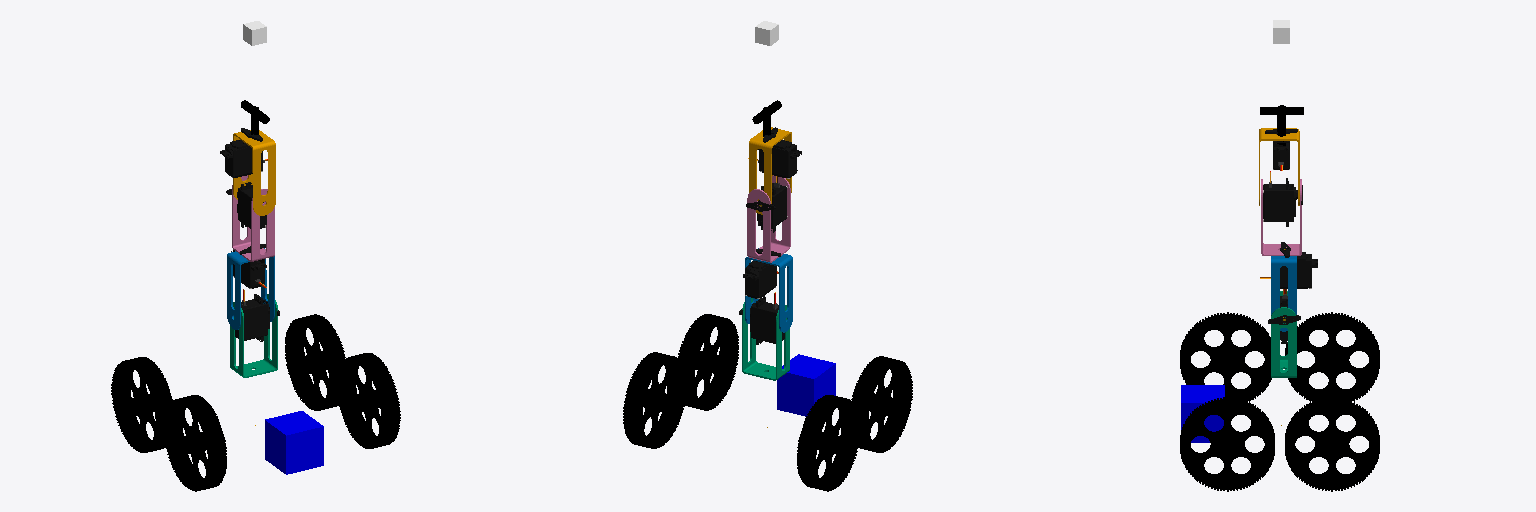
--- What the picture shows (computed from the rendered views, not written in the file) ---
The picture shows the robot from 3 angles, left to right: view 1: azimuth 30°, elevation 25°; view 2: azimuth 150°, elevation 25°; view 3: azimuth 270°, elevation 25°; orthographic projection.
Robot: Robot_Arm — 26 links, 25 joints (8 revolute, 4 continuous, 13 fixed); root link base_foot; default pose: all joints at 0 but 2 set to mid-range because 0 is outside their limits (left_gripper_joint = 0.349, right_gripper_joint = 0.349).
Visible links, largest first — view 1: right_back_wheel1, left_back_wheel1, left_front_wheel1, right_front_wheel1, hokuyo_sensor, elbow_pitch_link, elbow_pan_link, shoulder_roll_link, shoulder_pan_link, servo_shoulder_roll, servo_gripper_pan, servo_elbow_pan (+1 smaller); view 2: right_front_wheel1, left_front_wheel1, right_back_wheel1, left_back_wheel1, hokuyo_sensor, elbow_pan_link, shoulder_pan_link, shoulder_roll_link, elbow_pitch_link, servo_shoulder_roll, servo_gripper_pan, servo_elbow_pan (+1 smaller); view 3: right_front_wheel1, right_back_wheel1, left_front_wheel1, left_back_wheel1, shoulder_pan_link, hokuyo_sensor, servo_wrist_roll, shoulder_roll_link, servo_elbow_pan, elbow_pan_link, servo_gripper_pan, elbow_pitch_link.
Link boxes in pixels (x1=…): right_back_wheel1: x1=337, y1=353, x2=400, y2=448; left_back_wheel1: x1=164, y1=395, x2=226, y2=491; left_front_wheel1: x1=111, y1=357, x2=172, y2=452; right_front_wheel1: x1=285, y1=314, x2=345, y2=410; hokuyo_sensor: x1=265, y1=411, x2=323, y2=474; elbow_pitch_link: x1=233, y1=130, x2=275, y2=215; elbow_pan_link: x1=232, y1=175, x2=274, y2=261; shoulder_roll_link: x1=227, y1=248, x2=274, y2=329; shoulder_pan_link: x1=230, y1=294, x2=277, y2=377; servo_shoulder_roll: x1=235, y1=289, x2=279, y2=341; servo_gripper_pan: x1=220, y1=128, x2=267, y2=177; servo_elbow_pan: x1=231, y1=244, x2=266, y2=288; right_front_wheel1: x1=623, y1=352, x2=686, y2=448; left_front_wheel1: x1=797, y1=395, x2=860, y2=491; right_back_wheel1: x1=678, y1=314, x2=738, y2=410; left_back_wheel1: x1=851, y1=356, x2=912, y2=452; hokuyo_sensor: x1=777, y1=354, x2=835, y2=416; elbow_pan_link: x1=747, y1=175, x2=790, y2=262; shoulder_pan_link: x1=742, y1=298, x2=789, y2=380; shoulder_roll_link: x1=745, y1=248, x2=792, y2=332; elbow_pitch_link: x1=749, y1=127, x2=791, y2=214; servo_shoulder_roll: x1=739, y1=292, x2=784, y2=344; servo_gripper_pan: x1=748, y1=127, x2=801, y2=178; servo_elbow_pan: x1=743, y1=249, x2=780, y2=298; right_front_wheel1: x1=1285, y1=397, x2=1379, y2=491; right_back_wheel1: x1=1180, y1=397, x2=1274, y2=491; left_front_wheel1: x1=1285, y1=312, x2=1379, y2=401; left_back_wheel1: x1=1180, y1=312, x2=1271, y2=401; shoulder_pan_link: x1=1271, y1=291, x2=1296, y2=377; hokuyo_sensor: x1=1181, y1=385, x2=1224, y2=442; servo_wrist_roll: x1=1263, y1=171, x2=1302, y2=226; shoulder_roll_link: x1=1271, y1=256, x2=1296, y2=331; servo_elbow_pan: x1=1260, y1=242, x2=1317, y2=288; elbow_pan_link: x1=1261, y1=179, x2=1301, y2=255; servo_gripper_pan: x1=1265, y1=129, x2=1297, y2=170; elbow_pitch_link: x1=1259, y1=128, x2=1299, y2=205.
Size in the robot's own frame: 0.255 by 0.229 by 0.5325 metres.
12 mesh visuals loaded from 6 distinct referenced files (3 Collada DAE); not drawn: 5 (reference not matched to a file when rendering).

URDF robot description (Robot_Arm):
<?xml version="1.0" ?>
<!-- =================================================================================== -->
<!-- |    This document was autogenerated by xacro from 04-robot_arm_servo.urdf.xacro  | -->
<!-- |    EDITING THIS FILE BY HAND IS NOT RECOMMENDED                                 | -->
<!-- =================================================================================== -->
<robot name="Robot_Arm" xmlns:xacro="http://www.ros.org/wiki/xacro">
  <!-- /////////////////////////////////////////////////////////////////-->
  <!-- Include materials-->
  <material name="Black">
    <color rgba="0.0 0.0 0.0 1.0"/>
  </material>
  <material name="Red">
    <color rgba="0.8 0.0 0.0 1.0"/>
  </material>
  <material name="White">
    <color rgba="1.0 1.0 1.0 1.0"/>
  </material>
  <material name="Blue">
    <color rgba="0.0 0.0 1.0 1.0"/>
  </material>
  <material name="Green">
    <color rgba="0.0 1.0 0.0 1.0"/>
  </material>
  <!-- /////////////////////////////////////////////////////-->
  <!-- constants -->
  <!-- chassis property -->
  <!-- wheel property -->
  <!-- shoulder roll link -->
  <!-- shoulder pan link -->
  <!-- elbow pan link -->
  <!-- elbow pitch link -->
  <!-- gripper roll link -->
  <!-- /////////////////////////////////////////////////////-->
  <!-- ///////////////////////////////////////////////////-->
  <!-- ////////////////////////////////////////////////////-->
  <!--transmission block-->
  <!-- //////////////////////////////////////////////////// -->
  <link name="base_foot">
    <visual>
      <origin rpy="0 0 0" xyz="0 0 0"/>
      <geometry>
        <box size="0.001 0.001 0.001"/>
      </geometry>
    </visual>
  </link>
  <joint name="base" type="fixed">
    <parent link="base_foot"/>
    <child link="chassis"/>
    <origin rpy="0 0 0" xyz="0 0 0.015"/>
  </joint>
  <gazebo reference="base_foot">
    <turnGravityOff>false</turnGravityOff>
  </gazebo>
  <!-- ////////////////////////////////////////////////////////////-->
  <!-- chassis-->
  <link name="chassis">
    <visual>
      <origin rpy="-1.57 0 0" xyz="0 0 0"/>
      <geometry>
        <mesh filename="package://robot_arm/meshes/base assembly.dae"/>
      </geometry>
    </visual>
    <collision>
      <origin rpy="-1.57 0 0" xyz="0 0 0"/>
      <geometry>
        <mesh filename="package://robot_arm/meshes/base assembly.dae"/>
      </geometry>
    </collision>
    <inertial>
      <mass value="5.0"/>
      <inertia ixx="1.0" ixy="0.0" ixz="0.0" iyy="1.0" iyz="0.0" izz="1.0"/>
    </inertial>
  </link>
  <!-- ///////////////////      Wheels      ///////////////////////   -->
  <link name="right_front_wheel">
    <visual>
      <origin rpy="0 1.57 0" xyz="0 0 0"/>
      <geometry>
        <cylinder length="0.022" radius="0.011"/>
      </geometry>
      <material name="Black"/>
    </visual>
    <collision>
      <origin rpy="0 1.57 0" xyz="0 0 0"/>
      <geometry>
        <cylinder length="0.022" radius="0.011"/>
      </geometry>
    </collision>
    <inertial>
      <mass value="0.2"/>
      <inertia ixx="2.48722222222e-05" ixy="0.0" ixz="0.0" iyy="2.48722222222e-05" iyz="0.0" izz="3.3611111111e-05"/>
    </inertial>
  </link>
  <link name="right_front_wheel1">
    <visual>
      <origin rpy="0  0 1.57" xyz="0 0 0"/>
      <geometry>
        <mesh filename="package://robot_arm/meshes/tyre11.dae"/>
      </geometry>
      <material name="Black"/>
    </visual>
    <collision>
      <origin rpy="0 0 1.57" xyz="0 0 0"/>
      <geometry>
        <mesh filename="package://robot_arm/meshes/tyre11.dae"/>
      </geometry>
    </collision>
    <inertial>
      <mass value="0.2"/>
      <inertia ixx="0.000159316666667" ixy="0.0" ixz="0.0" iyy="0.000159316666667" iyz="0.0" izz="0.0003025"/>
    </inertial>
  </link>
  <gazebo reference="right_front_wheel1">
    <material>Gazebo/Black</material>
    <turnGravityOff>false</turnGravityOff>
  </gazebo>
  <joint name="right_front_wheel_joint1" type="fixed">
    <parent link="right_front_wheel"/>
    <child link="right_front_wheel1"/>
    <origin rpy="0 0 0" xyz="0 0 0"/>
  </joint>
  <gazebo reference="right_front_wheel">
    <mu1 value="200.0"/>
    <mu2 value="100.0"/>
    <kp value="10000000.0"/>
    <kd value="1.0"/>
    <material>Gazebo/Black</material>
  </gazebo>
  <joint name="right_front_wheel_joint" type="continuous">
    <parent link="chassis"/>
    <child link="right_front_wheel"/>
    <origin rpy="0 0 0" xyz="0.115 0.058 0.015"/>
    <axis xyz="1 0 0"/>
    <limit effort="100" velocity="100"/>
    <dynamics damping="0.0" friction="0.0"/>
  </joint>
  <transmission name="right_front_wheel_trans">
    <type>transmission_interface/SimpleTransmission</type>
    <actuator name="right_front_wheel_motor">
      <hardwareInterface>EffortJointInterface</hardwareInterface>
      <mechanicalReduction>1</mechanicalReduction>
    </actuator>
    <joint name="right_front_wheel_joint">
      <hardwareInterface>VelocityJointInterface</hardwareInterface>
    </joint>
  </transmission>
  <link name="right_back_wheel">
    <visual>
      <origin rpy="0 1.57 0" xyz="0 0 0"/>
      <geometry>
        <cylinder length="0.022" radius="0.011"/>
      </geometry>
      <material name="Black"/>
    </visual>
    <collision>
      <origin rpy="0 1.57 0" xyz="0 0 0"/>
      <geometry>
        <cylinder length="0.022" radius="0.011"/>
      </geometry>
    </collision>
    <inertial>
      <mass value="0.2"/>
      <inertia ixx="2.48722222222e-05" ixy="0.0" ixz="0.0" iyy="2.48722222222e-05" iyz="0.0" izz="3.3611111111e-05"/>
    </inertial>
  </link>
  <link name="right_back_wheel1">
    <visual>
      <origin rpy="0  0 1.57" xyz="0 0 0"/>
      <geometry>
        <mesh filename="package://robot_arm/meshes/tyre11.dae"/>
      </geometry>
      <material name="Black"/>
    </visual>
    <collision>
      <origin rpy="0 0 1.57" xyz="0 0 0"/>
      <geometry>
        <mesh filename="package://robot_arm/meshes/tyre11.dae"/>
      </geometry>
    </collision>
    <inertial>
      <mass value="0.2"/>
      <inertia ixx="0.000159316666667" ixy="0.0" ixz="0.0" iyy="0.000159316666667" iyz="0.0" izz="0.0003025"/>
    </inertial>
  </link>
  <gazebo reference="right_back_wheel1">
    <material>Gazebo/Black</material>
    <turnGravityOff>false</turnGravityOff>
  </gazebo>
  <joint name="right_back_wheel_joint1" type="fixed">
    <parent link="right_back_wheel"/>
    <child link="right_back_wheel1"/>
    <origin rpy="0 0 0" xyz="0 0 0"/>
  </joint>
  <gazebo reference="right_back_wheel">
    <mu1 value="200.0"/>
    <mu2 value="100.0"/>
    <kp value="10000000.0"/>
    <kd value="1.0"/>
    <material>Gazebo/Black</material>
  </gazebo>
  <joint name="right_back_wheel_joint" type="continuous">
    <parent link="chassis"/>
    <child link="right_back_wheel"/>
    <origin rpy="0 0 0" xyz="0.115 -0.062 0.015"/>
    <axis xyz="1 0 0"/>
    <limit effort="100" velocity="100"/>
    <dynamics damping="0.0" friction="0.0"/>
  </joint>
  <transmission name="right_back_wheel_trans">
    <type>transmission_interface/SimpleTransmission</type>
    <actuator name="right_back_wheel_motor">
      <hardwareInterface>EffortJointInterface</hardwareInterface>
      <mechanicalReduction>1</mechanicalReduction>
    </actuator>
    <joint name="right_back_wheel_joint">
      <hardwareInterface>VelocityJointInterface</hardwareInterface>
    </joint>
  </transmission>
  <link name="left_front_wheel">
    <visual>
      <origin rpy="0 1.57 0" xyz="0 0 0"/>
      <geometry>
        <cylinder length="0.022" radius="0.011"/>
      </geometry>
      <material name="Black"/>
    </visual>
    <collision>
      <origin rpy="0 1.57 0" xyz="0 0 0"/>
      <geometry>
        <cylinder length="0.022" radius="0.011"/>
      </geometry>
    </collision>
    <inertial>
      <mass value="0.2"/>
      <inertia ixx="2.48722222222e-05" ixy="0.0" ixz="0.0" iyy="2.48722222222e-05" iyz="0.0" izz="3.3611111111e-05"/>
    </inertial>
  </link>
  <link name="left_front_wheel1">
    <visual>
      <origin rpy="0  0 1.57" xyz="0 0 0"/>
      <geometry>
        <mesh filename="package://robot_arm/meshes/tyre11.dae"/>
      </geometry>
      <material name="Black"/>
    </visual>
    <collision>
      <origin rpy="0 0 1.57" xyz="0 0 0"/>
      <geometry>
        <mesh filename="package://robot_arm/meshes/tyre11.dae"/>
      </geometry>
    </collision>
    <inertial>
      <mass value="0.2"/>
      <inertia ixx="0.000159316666667" ixy="0.0" ixz="0.0" iyy="0.000159316666667" iyz="0.0" izz="0.0003025"/>
    </inertial>
  </link>
  <gazebo reference="left_front_wheel1">
    <material>Gazebo/Black</material>
    <turnGravityOff>false</turnGravityOff>
  </gazebo>
  <joint name="left_front_wheel_joint1" type="fixed">
    <parent link="left_front_wheel"/>
    <child link="left_front_wheel1"/>
    <origin rpy="0 0 0" xyz="0 0 0"/>
  </joint>
  <gazebo reference="left_front_wheel">
    <mu1 value="200.0"/>
    <mu2 value="100.0"/>
    <kp value="10000000.0"/>
    <kd value="1.0"/>
    <material>Gazebo/Black</material>
  </gazebo>
  <joint name="left_front_wheel_joint" type="continuous">
    <parent link="chassis"/>
    <child link="left_front_wheel"/>
    <origin rpy="0 0 0" xyz="-0.115 0.058 0.015"/>
    <axis xyz="1 0 0"/>
    <limit effort="100" velocity="100"/>
    <dynamics damping="0.0" friction="0.0"/>
  </joint>
  <transmission name="left_front_wheel_trans">
    <type>transmission_interface/SimpleTransmission</type>
    <actuator name="left_front_wheel_motor">
      <hardwareInterface>EffortJointInterface</hardwareInterface>
      <mechanicalReduction>1</mechanicalReduction>
    </actuator>
    <joint name="left_front_wheel_joint">
      <hardwareInterface>VelocityJointInterface</hardwareInterface>
    </joint>
  </transmission>
  <link name="left_back_wheel">
    <visual>
      <origin rpy="0 1.57 0" xyz="0 0 0"/>
      <geometry>
        <cylinder length="0.022" radius="0.011"/>
      </geometry>
      <material name="Black"/>
    </visual>
    <collision>
      <origin rpy="0 1.57 0" xyz="0 0 0"/>
      <geometry>
        <cylinder length="0.022" radius="0.011"/>
      </geometry>
    </collision>
    <inertial>
      <mass value="0.2"/>
      <inertia ixx="2.48722222222e-05" ixy="0.0" ixz="0.0" iyy="2.48722222222e-05" iyz="0.0" izz="3.3611111111e-05"/>
    </inertial>
  </link>
  <link name="left_back_wheel1">
    <visual>
      <origin rpy="0  0 1.57" xyz="0 0 0"/>
      <geometry>
        <mesh filename="package://robot_arm/meshes/tyre11.dae"/>
      </geometry>
      <material name="Black"/>
    </visual>
    <collision>
      <origin rpy="0 0 1.57" xyz="0 0 0"/>
      <geometry>
        <mesh filename="package://robot_arm/meshes/tyre11.dae"/>
      </geometry>
    </collision>
    <inertial>
      <mass value="0.2"/>
      <inertia ixx="0.000159316666667" ixy="0.0" ixz="0.0" iyy="0.000159316666667" iyz="0.0" izz="0.0003025"/>
    </inertial>
  </link>
  <gazebo reference="left_back_wheel1">
    <material>Gazebo/Black</material>
    <turnGravityOff>false</turnGravityOff>
  </gazebo>
  <joint name="left_back_wheel_joint1" type="fixed">
    <parent link="left_back_wheel"/>
    <child link="left_back_wheel1"/>
    <origin rpy="0 0 0" xyz="0 0 0"/>
  </joint>
  <gazebo reference="left_back_wheel">
    <mu1 value="200.0"/>
    <mu2 value="100.0"/>
    <kp value="10000000.0"/>
    <kd value="1.0"/>
    <material>Gazebo/Black</material>
  </gazebo>
  <joint name="left_back_wheel_joint" type="continuous">
    <parent link="chassis"/>
    <child link="left_back_wheel"/>
    <origin rpy="0 0 0" xyz="-0.115 -0.062 0.015"/>
    <axis xyz="1 0 0"/>
    <limit effort="100" velocity="100"/>
    <dynamics damping="0.0" friction="0.0"/>
  </joint>
  <transmission name="left_back_wheel_trans">
    <type>transmission_interface/SimpleTransmission</type>
    <actuator name="left_back_wheel_motor">
      <hardwareInterface>EffortJointInterface</hardwareInterface>
      <mechanicalReduction>1</mechanicalReduction>
    </actuator>
    <joint name="left_back_wheel_joint">
      <hardwareInterface>VelocityJointInterface</hardwareInterface>
    </joint>
  </transmission>
  <!-- /////////////////////////////////////////////////// -->
  <!-- shoulder pan link -->
  <link name="shoulder_pan_link">
    <visual>
      <origin rpy="0 0 0" xyz="-0.0235 -0.0125 0.075"/>
      <geometry>
        <mesh filename="package://robot_arm/meshes/mid-arm.dae"/>
      </geometry>
    </visual>
    <collision>
      <origin rpy="0 0 0" xyz="-0.0235 -0.0125 0.075"/>
      <geometry>
        <mesh filename="package://robot_arm/meshes/mid-arm.dae"/>
      </geometry>
    </collision>
    <inertial>
      <mass value="0.1"/>
      <inertia ixx="1.0" ixy="0.0" ixz="0.0" iyy="1.0" iyz="0.0" izz="1.0"/>
    </inertial>
  </link>
  <joint name="shoulder_pan_joint" type="revolute">
    <parent link="chassis"/>
    <child link="shoulder_pan_link"/>
    <origin rpy="0 0 0" xyz="0 0 0.07"/>
    <axis xyz="0 0 1"/>
    <limit effort="100" lower="-2.00" upper="1.57" velocity="100"/>
    <dynamics damping="0.0" friction="0.0"/>
  </joint>
  <!--  SERVO shoulder pan link motor-->
  <link name="servo_shoulder_roll">
    <visual>
      <origin rpy="4.71 0 1.57" xyz="-0.015 0.04 0"/>
      <geometry>
        <mesh filename="package://robot_arm/meshes/Servo Motor.dae"/>
      </geometry>
    </visual>
    <collision>
      <origin rpy="4.71 0 1.57" xyz="-0.015 0.04 0"/>
      <geometry>
        <mesh filename="package://robot_arm/meshes/Servo Motor.dae"/>
      </geometry>
    </collision>
    <inertial>
      <mass value="0.25"/>
      <inertia ixx="1.0" ixy="0.0" ixz="0.0" iyy="1.0" iyz="0.0" izz="1.0"/>
    </inertial>
  </link>
  <gazebo reference="servo_shoulder_roll">
    <turnGravityOff>false</turnGravityOff>
  </gazebo>
  <joint name="servo_joint1" type="fixed">
    <parent link="shoulder_pan_link"/>
    <child link="servo_shoulder_roll"/>
    <origin rpy="0 0 0" xyz="-0.004 -0.002 0.080"/>
  </joint>
  <!-- //////////////////////////////////////////////////////////////////////////////-->
  <link name="shoulder_roll_link">
    <visual>
      <origin rpy="3.14 0 0" xyz="-0.0275 0.0175 -0.012"/>
      <geometry>
        <mesh filename="package://robot_arm/meshes/mid-arm.dae"/>
      </geometry>
    </visual>
    <collision>
      <origin rpy="3.14 0 0" xyz="-0.0275 0.0175 -0.012"/>
      <geometry>
        <mesh filename="package://robot_arm/meshes/mid-arm.dae"/>
      </geometry>
    </collision>
    <inertial>
      <mass value="0.1"/>
      <inertia ixx="1.0" ixy="0.0" ixz="0.0" iyy="1.0" iyz="0.0" izz="1.0"/>
    </inertial>
  </link>
  <joint name="shoulder_roll_joint" type="revolute">
    <parent link="shoulder_pan_link"/>
    <child link="shoulder_roll_link"/>
    <origin rpy="0 0 0" xyz="0 0 0.055"/>
    <axis xyz="1 0 0"/>
    <limit effort="100" lower="-1.57" upper="2.00" velocity="100"/>
    <dynamics damping="0.0" friction="0.0"/>
  </joint>
  <!-- SERVO elbow roll motor-->
  <link name="servo_elbow_pan">
    <visual>
      <origin rpy="3.14 0 3.14" xyz="-0.035 -0.016 0"/>
      <geometry>
        <mesh filename="package://robot_arm/meshes/Servo Motor.dae"/>
      </geometry>
    </visual>
    <collision>
      <origin rpy="3.14 0 3.14" xyz="-0.035 -0.016 0"/>
      <geometry>
        <mesh filename="package://robot_arm/meshes/Servo Motor.dae"/>
      </geometry>
    </collision>
    <inertial>
      <mass value="0.2"/>
      <inertia ixx="1.0" ixy="0.0" ixz="0.0" iyy="1.0" iyz="0.0" izz="1.0"/>
    </inertial>
  </link>
  <gazebo reference="servo_elbow_pan">
    <turnGravityOff>false</turnGravityOff>
  </gazebo>
  <joint name="servo_joint2" type="fixed">
    <parent link="shoulder_roll_link"/>
    <child link="servo_elbow_pan"/>
    <origin rpy="0 0 0" xyz="0 0 0.040"/>
  </joint>
  <!--/////////////////////////////////////////////////////////////////////////////////////-->
  <link name="elbow_pan_link">
    <visual>
      <origin rpy="0 0 0" xyz="-0.0235 -0.0125 0.09"/>
      <geometry>
        <mesh filename="package://robot_arm/meshes/mid-arm.dae"/>
      </geometry>
    </visual>
    <collision>
      <origin rpy="0 0 0" xyz="-0.0235 -0.0125 0.09"/>
      <geometry>
        <mesh filename="package://robot_arm/meshes/mid-arm.dae"/>
      </geometry>
    </collision>
    <inertial>
      <mass value="0.1"/>
      <inertia ixx="1.0" ixy="0.0" ixz="0.0" iyy="1.0" iyz="0.0" izz="1.0"/>
    </inertial>
  </link>
  <joint name="elbow_pan_joint" type="revolute">
    <parent link="shoulder_roll_link"/>
    <child link="elbow_pan_link"/>
    <origin rpy="0 0 1.57" xyz="0 0 0.08"/>
    <axis xyz="0 0 1"/>
    <limit effort="100" lower="-1.57" upper="1.57" velocity="100"/>
    <dynamics damping="0.0" friction="0.0"/>
  </joint>
  <!--  SERVO wrist roll link motor-->
  <link name="servo_wrist_roll">
    <visual>
      <origin rpy="4.71 0 1.57" xyz="-0.015 0.04 0"/>
      <geometry>
        <mesh filename="package://robot_arm/meshes/Servo Motor.dae"/>
      </geometry>
    </visual>
    <collision>
      <origin rpy="4.71 0 1.57" xyz="-0.015 0.04 0"/>
      <geometry>
        <mesh filename="package://robot_arm/meshes/Servo Motor.dae"/>
      </geometry>
    </collision>
    <inertial>
      <mass value="0.2"/>
      <inertia ixx="1.0" ixy="0.0" ixz="0.0" iyy="1.0" iyz="0.0" izz="1.0"/>
    </inertial>
  </link>
  <gazebo reference="servo_wrist_roll">
    <turnGravityOff>false</turnGravityOff>
  </gazebo>
  <joint name="servo_joint3" type="fixed">
    <parent link="elbow_pan_link"/>
    <child link="servo_wrist_roll"/>
    <origin rpy="0 0 0" xyz="-0.004 0 0.09"/>
  </joint>
  <!--////////////////////////////////////////////////////////////////////////////////////-->
  <!-- elbow pitch link -->
  <link name="elbow_pitch_link">
    <visual>
      <origin rpy="3.14 0 0" xyz="-0.0265 0.0175 0"/>
      <geometry>
        <mesh filename="package://robot_arm/meshes/mid-arm.dae"/>
      </geometry>
    </visual>
    <collision>
      <origin rpy="3.14 0 0" xyz="-0.0265 0.0175 0"/>
      <geometry>
        <mesh filename="package://robot_arm/meshes/mid-arm.dae"/>
      </geometry>
    </collision>
    <inertial>
      <mass value="0.1"/>
      <inertia ixx="1.0" ixy="0.0" ixz="0.0" iyy="1.0" iyz="0.0" izz="1.0"/>
    </inertial>
  </link>
  <joint name="elbow_pitch_joint" type="revolute">
    <parent link="elbow_pan_link"/>
    <child link="elbow_pitch_link"/>
    <origin rpy="0 0 0" xyz="0 0 0.058"/>
    <axis xyz="1 0 0"/>
    <limit effort="100" lower="-1.57" upper="2.00" velocity="100"/>
    <dynamics damping="0.0" friction="0.0"/>
  </joint>
  <!-- SERVO gripper pan motor-->
  <link name="servo_gripper_pan">
    <visual>
      <origin rpy="3.14 0 3.14" xyz="-0.035 -0.016 0"/>
      <geometry>
        <mesh filename="package://robot_arm/meshes/Servo Motor.dae"/>
      </geometry>
    </visual>
    <collision>
      <origin rpy="3.14 0 3.14" xyz="-0.035 -0.016 0"/>
      <geometry>
        <mesh filename="package://robot_arm/meshes/Servo Motor.dae"/>
      </geometry>
    </collision>
    <inertial>
      <mass value="0.2"/>
      <inertia ixx="1.0" ixy="0.0" ixz="0.0" iyy="1.0" iyz="0.0" izz="1.0"/>
    </inertial>
  </link>
  <gazebo reference="servo_gripper_pan">
    <turnGravityOff>false</turnGravityOff>
  </gazebo>
  <joint name="servo_joint4" type="fixed">
    <parent link="elbow_pitch_link"/>
    <child link="servo_gripper_pan"/>
    <origin rpy="0 0 0" xyz="0 0 0.05"/>
  </joint>
  <!-- ////////////////////////////////////////////////////////////////////////////-->
  <link name="gripper_pan_link">
    <visual>
      <origin rpy="0 0 0" xyz="0 0 0"/>
      <geometry>
        <cylinder length="0.05" radius="0.005"/>
      </geometry>
      <material name="Black"/>
    </visual>
    <collision>
      <origin rpy="0 0 0" xyz="0 0 0"/>
      <geometry>
        <cylinder length="0.05" radius="0.005"/>
      </geometry>
    </collision>
    <inertial>
      <mass value="0.04"/>
      <inertia ixx="1.0" ixy="0.0" ixz="0.0" iyy="1.0" iyz="0.0" izz="1.0"/>
    </inertial>
  </link>
  <gazebo reference="gripper_pan_link">
    <material>Gazebo/Black</material>
  </gazebo>
  <joint name="gripper_pan_joint" type="revolute">
    <parent link="elbow_pitch_link"/>
    <child link="gripper_pan_link"/>
    <origin rpy="0 0 0" xyz="0 0 0.1"/>
    <axis xyz="0 0 1"/>
    <limit effort="100" lower="-1.57" upper="1.57" velocity="100"/>
    <dynamics damping="0.0" friction="0.0"/>
  </joint>
  <link name="gripper_pitch_link">
    <visual>
      <origin rpy="0 0 0" xyz="0 0 0"/>
      <geometry>
        <cylinder length="0.05" radius="0.005"/>
      </geometry>
      <material name="Black"/>
    </visual>
    <collision>
      <origin rpy="0 0 0" xyz="0 0 0"/>
      <geometry>
        <cylinder length="0.05" radius="0.005"/>
      </geometry>
    </collision>
    <inertial>
      <mass value="0.04"/>
      <inertia ixx="1.0" ixy="0.0" ixz="0.0" iyy="1.0" iyz="0.0" izz="1.0"/>
    </inertial>
  </link>
  <gazebo reference="gripper_pitch_link">
    <material>Gazebo/Black</material>
  </gazebo>
  <joint name="gripper_pitch_joint" type="revolute">
    <parent link="gripper_pan_link"/>
    <child link="gripper_pitch_link"/>
    <origin rpy="0 1.57 0" xyz="0 0 0.02"/>
    <axis xyz="0 1 0"/>
    <limit effort="100" lower="-1.57" upper="1.57" velocity="100"/>
    <dynamics damping="0.0" friction="0.0"/>
  </joint>
  <!--////////////////////////////////////////////////////////////////-->
  <joint name="left_gripper_joint" type="revolute">
    <axis xyz="-1.0 0 0"/>
    <limit effort="1000.0" lower="0.15" upper="0.548" velocity="0.5"/>
    <origin rpy="0 -1.57 0" xyz="0 0.01 0"/>
    <parent link="gripper_pitch_link"/>
    <child link="left_gripper"/>
  </joint>
  <link name="left_gripper">
    <visual>
      <origin rpy="0 -1.57 0.0" xyz="0 0 0"/>
      <geometry>
        <mesh filename="package://urdf_tutorial/meshes/l_finger.dae"/>
      </geometry>
    </visual>
    <collision>
      <geometry>
        <mesh filename="package://urdf_tutorial/meshes/l_finger.dae"/>
      </geometry>
      <origin rpy="0 -1.57 0.0" xyz="0 0 0"/>
    </collision>
    <inertial>
      <mass value="0.05"/>
      <inertia ixx="1.0" ixy="0.0" ixz="0.0" iyy="1.0" iyz="0.0" izz="1.0"/>
    </inertial>
  </link>
  <joint name="left_tip_joint" type="fixed">
    <parent link="left_gripper"/>
    <child link="left_tip"/>
  </joint>
  <link name="left_tip">
    <visual>
      <origin rpy="0 -1.57 0.0" xyz="0 0.00495 0.09137"/>
      <geometry>
        <mesh filename="package://urdf_tutorial/meshes/l_finger_tip.dae"/>
      </geometry>
    </visual>
    <collision>
      <geometry>
        <mesh filename="package://urdf_tutorial/meshes/l_finger_tip.dae"/>
      </geometry>
      <origin rpy="0 -1.57 0.0" xyz="0 0.00495 0.09137"/>
    </collision>
    <inertial>
      <mass value="0.05"/>
      <inertia ixx="1.0" ixy="0.0" ixz="0.0" iyy="1.0" iyz="0.0" izz="1.0"/>
    </inertial>
  </link>
  <joint name="right_gripper_joint" type="revolute">
    <axis xyz="1.0 0 0"/>
    <limit effort="1000.0" lower="0.15" upper="0.548" velocity="0.5"/>
    <origin rpy="0 -1.57 0" xyz="0 -0.01 0"/>
    <parent link="gripper_pitch_link"/>
    <child link="right_gripper"/>
  </joint>
  <link name="right_gripper">
    <visual>
      <origin rpy="0 -1.57 -3.14" xyz="0 0 0"/>
      <geometry>
        <mesh filename="package://urdf_tutorial/meshes/l_finger.dae"/>
      </geometry>
    </visual>
    <collision>
      <geometry>
        <mesh filename="package://urdf_tutorial/meshes/l_finger.dae"/>
      </geometry>
      <origin rpy="0 -1.57 -3.14" xyz="0 0 0"/>
    </collision>
    <inertial>
      <mass value="0.05"/>
      <inertia ixx="1.0" ixy="0.0" ixz="0.0" iyy="1.0" iyz="0.0" izz="1.0"/>
    </inertial>
  </link>
  <joint name="right_tip_joint" type="fixed">
    <parent link="right_gripper"/>
    <child link="right_tip"/>
  </joint>
  <link name="right_tip">
    <visual>
      <origin rpy="0 -1.57 -3.14" xyz="0 -0.00495 0.09137"/>
      <geometry>
        <mesh filename="package://urdf_tutorial/meshes/l_finger_tip.dae"/>
      </geometry>
    </visual>
    <collision>
      <geometry>
        <mesh filename="package://urdf_tutorial/meshes/l_finger_tip.dae"/>
      </geometry>
      <origin rpy="0 -1.57 -3.14" xyz="0 -0.00495 0.09137"/>
    </collision>
    <inertial>
      <mass value="0.05"/>
      <inertia ixx="1.0" ixy="0.0" ixz="0.0" iyy="1.0" iyz="0.0" izz="1.0"/>
    </inertial>
  </link>
  <!--///////////////////////////////////////////////////////////////// -->
  <link name="hokuyo_sensor">
    <visual>
      <origin rpy="0 0 0" xyz="0 0 0"/>
      <geometry>
        <box size="0.05 0.05 0.05"/>
      </geometry>
      <material name="Blue"/>
    </visual>
  </link>
  <joint name="hokuyo_joint" type="fixed">
    <origin rpy="0 0 0" xyz="0 -0.09 0"/>
    <parent link="chassis"/>
    <child link="hokuyo_sensor"/>
  </joint>
  <gazebo reference="hokuyo_sensor">
    <material>Gazebo/Blue</material>
    <turnGravityOff>false</turnGravityOff>
    <sensor name="chassis_hokuyo_sensor" type="ray">
      <pose>0.025 0 0 0 0 0</pose>
      <visualize>false</visualize>
      <update_rate>40</update_rate>
      <ray>
        <scan>
          <horizontal>
            <samples>720</samples>
            <resolution>1</resolution>
            <min_angle>-1.57</min_angle>
            <max_angle>1.57</max_angle>
          </horizontal>
        </scan>
        <range>
          <min>0.10</min>
          <max>10.0</max>
          <resolution>0.001</resolution>
        </range>
      </ray>
      <plugin filename="libgazebo_ros_laser.so" name="gazebo_ros_head_hokuyo_controller">
        <topicName>/scan</topicName>
        <frameName>hokuyo_sensor</frameName>
      </plugin>
    </sensor>
  </gazebo>
  <!-- Grasping frame -->
  <link name="grasping_frame">
    <inertial>
      <origin rpy="0 0 0" xyz="0 0 0"/>
      <mass value="0.0001"/>
      <cuboid_inertia mass="0.0001" x="0.001" y="0.001" z="0.001"/>
      <inertia ixx="1.0" ixy="0.0" ixz="0.0" iyy="100.0" iyz="0.0" izz="1.0"/>
    </inertial>
    <visual>
      <origin xyz="0 0 0"/>
      <geometry>
        <box size="0.02 0.02 0.02"/>
      </geometry>
      <material name="White"/>
    </visual>
  </link>
  <joint name="grasping_frame_joint" type="fixed">
    <parent link="gripper_pitch_link"/>
    s
      
    <child link="grasping_frame"/>
    <origin rpy="0 0 0" xyz="-0.1 0 0"/>
  </joint>
  <!-- //////////////////////////////////////////////////////////////// -->
  <!-- Transmission for ROS CONTROL-->
  <transmission name="shoulder_pan_joint_trans">
    <type>transmission_interface/SimpleTransmission</type>
    <joint name="shoulder_pan_joint">
      <hardwareInterface>PositionJointInterface</hardwareInterface>
    </joint>
    <actuator name="shoulder_pan_joint_motor">
      <hardwareInterface>PositionJointInterface</hardwareInterface>
      <mechanicalReduction>1</mechanicalReduction>
    </actuator>
  </transmission>
  <transmission name="shoulder_roll_joint_trans">
    <type>transmission_interface/SimpleTransmission</type>
    <joint name="shoulder_roll_joint">
      <hardwareInterface>PositionJointInterface</hardwareInterface>
    </joint>
    <actuator name="shoulder_roll_joint_motor">
      <hardwareInterface>PositionJointInterface</hardwareInterface>
      <mechanicalReduction>1</mechanicalReduction>
    </actuator>
  </transmission>
  <transmission name="elbow_pan_joint_trans">
    <type>transmission_interface/SimpleTransmission</type>
    <joint name="elbow_pan_joint">
      <hardwareInterface>PositionJointInterface</hardwareInterface>
    </joint>
    <actuator name="elbow_pan_joint_motor">
      <hardwareInterface>PositionJointInterface</hardwareInterface>
      <mechanicalReduction>1</mechanicalReduction>
    </actuator>
  </transmission>
  <transmission name="elbow_pitch_joint_trans">
    <type>transmission_interface/SimpleTransmission</type>
    <joint name="elbow_pitch_joint">
      <hardwareInterface>PositionJointInterface</hardwareInterface>
    </joint>
    <actuator name="elbow_pitch_joint_motor">
      <hardwareInterface>PositionJointInterface</hardwareInterface>
      <mechanicalReduction>1</mechanicalReduction>
    </actuator>
  </transmission>
  <transmission name="gripper_pan_joint_trans">
    <type>transmission_interface/SimpleTransmission</type>
    <joint name="gripper_pan_joint">
      <hardwareInterface>PositionJointInterface</hardwareInterface>
    </joint>
    <actuator name="gripper_pan_joint_motor">
      <hardwareInterface>PositionJointInterface</hardwareInterface>
      <mechanicalReduction>1</mechanicalReduction>
    </actuator>
  </transmission>
  <transmission name="left_gripper_joint_trans">
    <type>transmission_interface/SimpleTransmission</type>
    <joint name="left_gripper_joint">
      <hardwareInterface>PositionJointInterface</hardwareInterface>
    </joint>
    <actuator name="left_gripper_joint_motor">
      <hardwareInterface>PositionJointInterface</hardwareInterface>
      <mechanicalReduction>1</mechanicalReduction>
    </actuator>
  </transmission>
  <transmission name="right_gripper_joint_trans">
    <type>transmission_interface/SimpleTransmission</type>
    <joint name="right_gripper_joint">
      <hardwareInterface>PositionJointInterface</hardwareInterface>
    </joint>
    <actuator name="right_gripper_joint_motor">
      <hardwareInterface>PositionJointInterface</hardwareInterface>
      <mechanicalReduction>1</mechanicalReduction>
    </actuator>
  </transmission>
  <transmission name="gripper_pitch_joint_trans">
    <type>transmission_interface/SimpleTransmission</type>
    <joint name="gripper_pitch_joint">
      <hardwareInterface>PositionJointInterface</hardwareInterface>
    </joint>
    <actuator name="gripper_pitch_joint_motor">
      <hardwareInterface>PositionJointInterface</hardwareInterface>
      <mechanicalReduction>1</mechanicalReduction>
    </actuator>
  </transmission>
  <!-- ros_control plugin-->
  <gazebo>
    <plugin filename="libgazebo_ros_control.so" name="gazebo_ros_control">
      <robotNamespace>/</robotNamespace>
    </plugin>
  </gazebo>
</robot>
